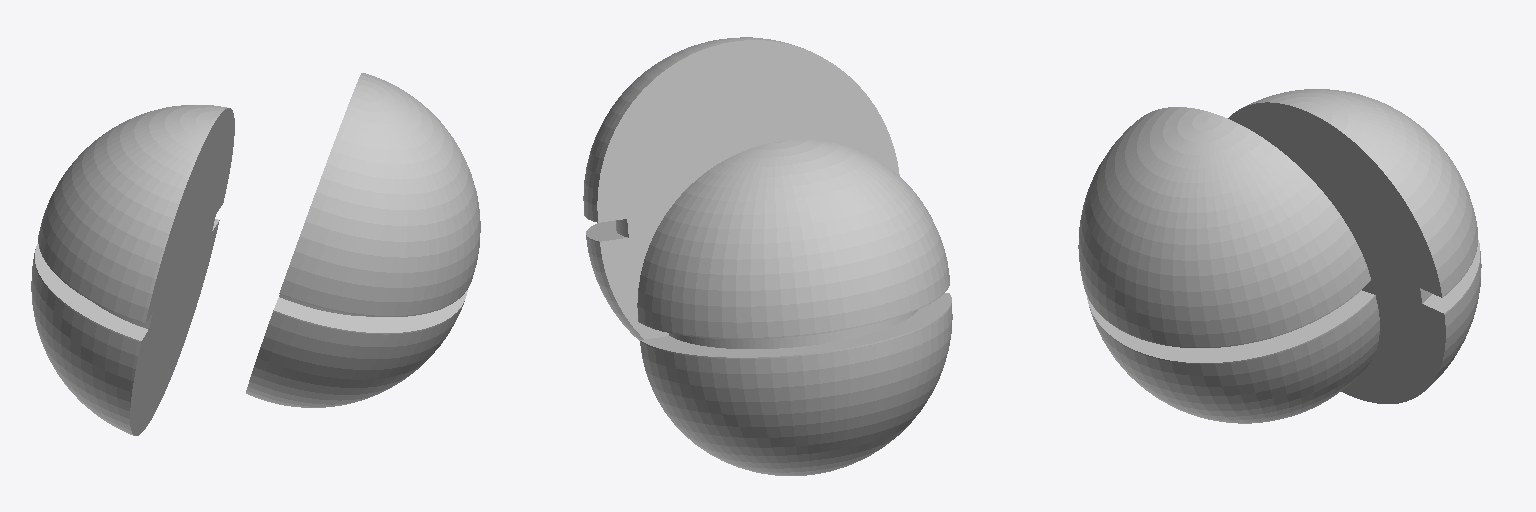
File: Drone166_000007.obj
3 views of the same model, side by side, from view 1: azimuth 30°, elevation 25°; view 2: azimuth 150°, elevation 25°; view 3: azimuth 270°, elevation 25° (orthographic).
Parts seen in each view (by area): view 1: Sphere.001_Sphere.005, Sphere.000_Sphere.004; view 2: Sphere.000_Sphere.004, Sphere.001_Sphere.005; view 3: Sphere.001_Sphere.005, Sphere.000_Sphere.004.
Part boxes in pixels (bbox=[...]): Sphere.001_Sphere.005: bbox=[246, 73, 480, 407]; Sphere.000_Sphere.004: bbox=[31, 105, 234, 435]; Sphere.000_Sphere.004: bbox=[637, 140, 952, 475]; Sphere.001_Sphere.005: bbox=[583, 37, 899, 340]; Sphere.001_Sphere.005: bbox=[1078, 107, 1379, 423]; Sphere.000_Sphere.004: bbox=[1228, 89, 1481, 403].
Bounding box in the file's own units: 2.62 × 2.38 × 2.5.